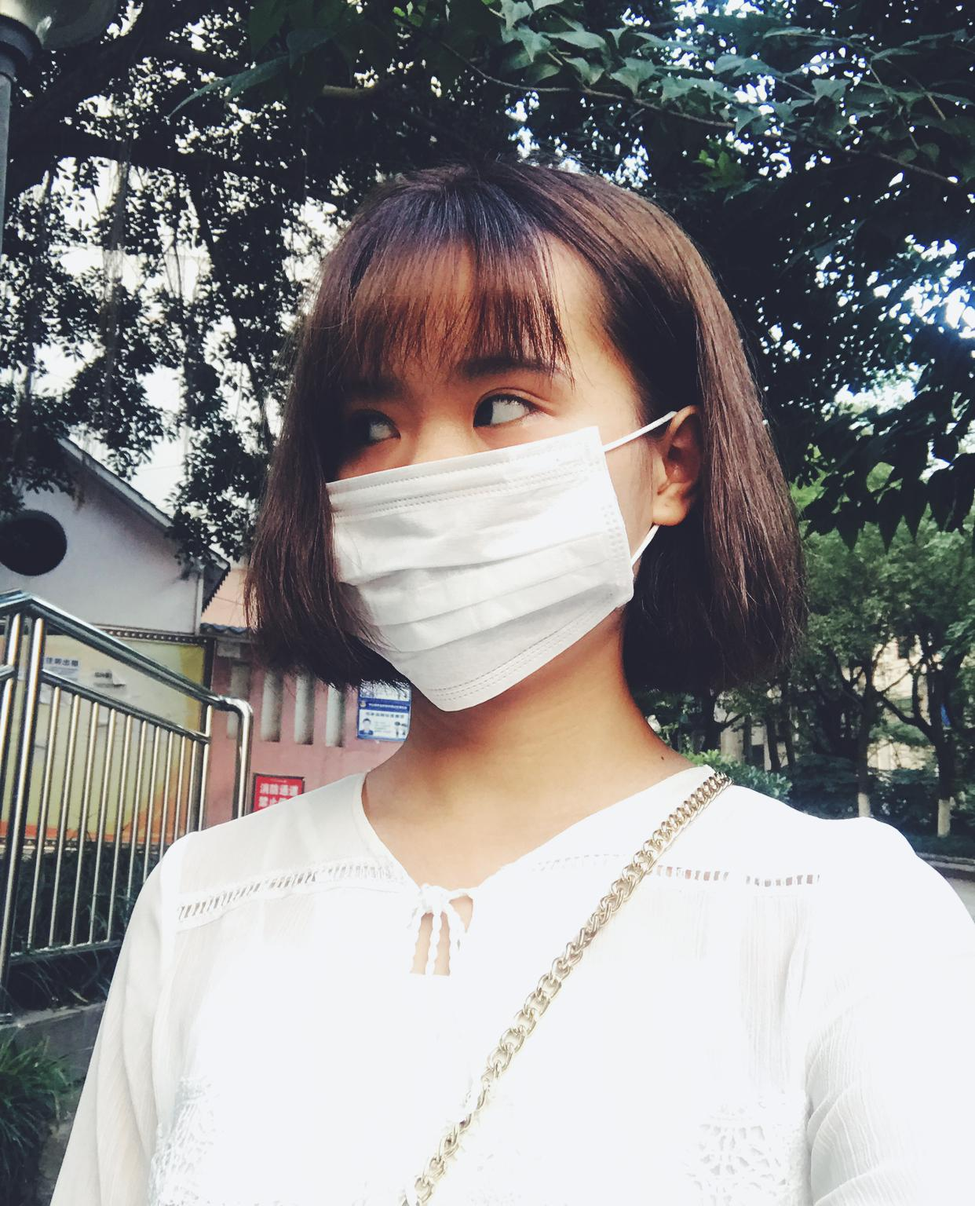OK: (305, 316, 697, 708)
